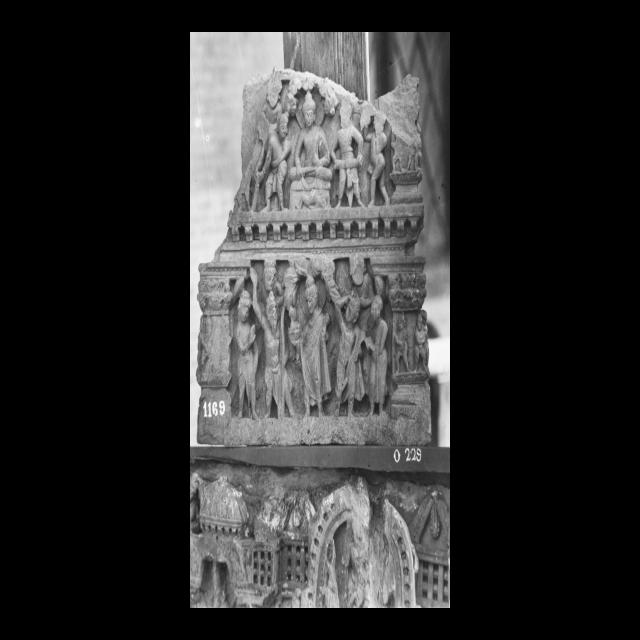buddha-sitting: (290, 91, 332, 208)
buddha-standing: (300, 284, 331, 416)
